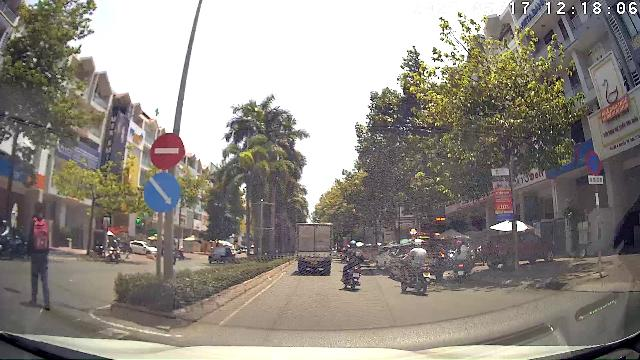102-cam-di-nguoc-chieu: (150, 132, 186, 170)
131a-cam-do-xe: (586, 150, 600, 174)
302a-huong-phai-di-vong-chuong-ngai-vat-1: (143, 173, 181, 213)
